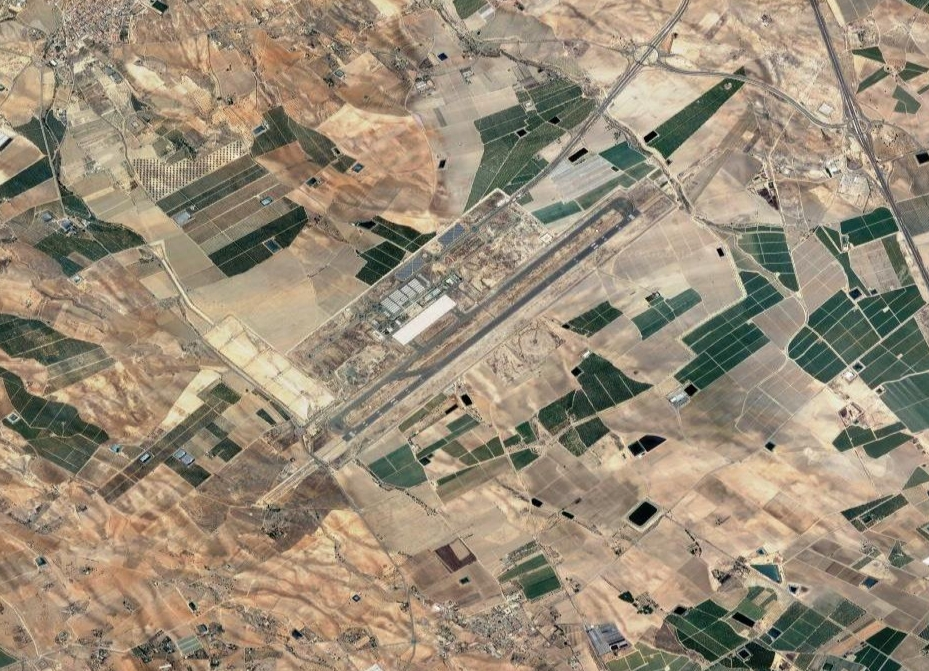airport: (324, 195, 642, 444)
motorway: (829, 59, 860, 121), (849, 117, 880, 179), (878, 181, 909, 243), (805, 1, 836, 62), (769, 84, 814, 123), (604, 60, 642, 104), (568, 101, 606, 145), (531, 142, 569, 186), (716, 66, 770, 95), (658, 56, 716, 82), (655, 1, 687, 38), (907, 243, 929, 289)
